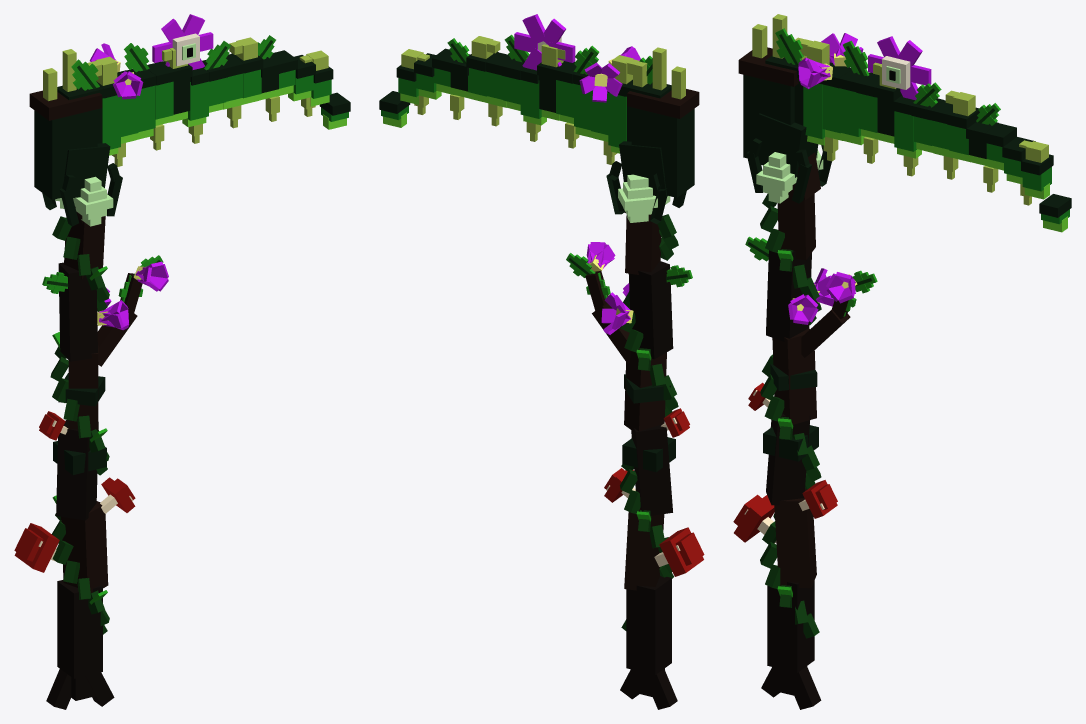
File: bloomfall.obj
3 renders of one model, left to right at view 1: azimuth 30°, elevation 25°; view 2: azimuth 150°, elevation 25°; view 3: azimuth 330°, elevation 25°, orthographic. The views are drawn at different scales.
Visible parts, largest first — view 1: handle_1, blade_81, handle_5, handle_2, handle_3, handle_14, handle_4, blade_82, handle_6, blade_31, handle_10, toadstool_0_236 (+13 smaller); view 2: handle_1, blade_81, handle_5, handle_3, handle_2, handle_4, handle_6, handle_14, blade_82, handle_10, blade_31, toadstool_0_236 (+10 smaller); view 3: handle_1, handle_2, handle_4, handle_5, blade_81, handle_3, handle_14, handle_6, blade_82, handle_10, blade_31, twig_12 (+12 smaller).
Part boxes in pixels (x1=…): handle_1: x1=57, y1=580, x2=102, y2=678; blade_81: x1=34, y1=109, x2=97, y2=199; handle_5: x1=58, y1=262, x2=97, y2=361; handle_2: x1=61, y1=501, x2=108, y2=592; handle_3: x1=56, y1=420, x2=98, y2=520; handle_14: x1=64, y1=143, x2=110, y2=197; handle_4: x1=68, y1=345, x2=98, y2=431; blade_82: x1=29, y1=90, x2=102, y2=120; handle_6: x1=64, y1=213, x2=105, y2=279; blade_31: x1=102, y1=95, x2=120, y2=149; handle_10: x1=53, y1=441, x2=106, y2=474; toadstool_0_236: x1=14, y1=523, x2=59, y2=572; handle_1: x1=626, y1=576, x2=671, y2=674; blade_81: x1=631, y1=107, x2=694, y2=197; handle_5: x1=628, y1=261, x2=673, y2=359; handle_3: x1=631, y1=424, x2=672, y2=515; handle_2: x1=624, y1=508, x2=664, y2=590; handle_4: x1=624, y1=348, x2=666, y2=432; handle_6: x1=625, y1=208, x2=661, y2=274; handle_14: x1=619, y1=141, x2=667, y2=196; blade_82: x1=627, y1=89, x2=699, y2=118; handle_10: x1=622, y1=437, x2=675, y2=472; blade_31: x1=608, y1=92, x2=626, y2=147; toadstool_0_236: x1=659, y1=527, x2=703, y2=576; handle_1: x1=767, y1=580, x2=814, y2=672; handle_2: x1=774, y1=488, x2=816, y2=588; handle_4: x1=772, y1=328, x2=816, y2=424; handle_5: x1=766, y1=250, x2=811, y2=341; blade_81: x1=743, y1=74, x2=794, y2=158; handle_3: x1=766, y1=413, x2=810, y2=505; handle_14: x1=755, y1=113, x2=818, y2=177; handle_6: x1=777, y1=175, x2=815, y2=260; blade_82: x1=738, y1=47, x2=798, y2=86; handle_10: x1=763, y1=425, x2=818, y2=461; blade_31: x1=803, y1=83, x2=824, y2=139; twig_12: x1=801, y1=309, x2=850, y2=357.
Bounding box in the file's own units: 2.26 × 4.5 × 0.5392.
